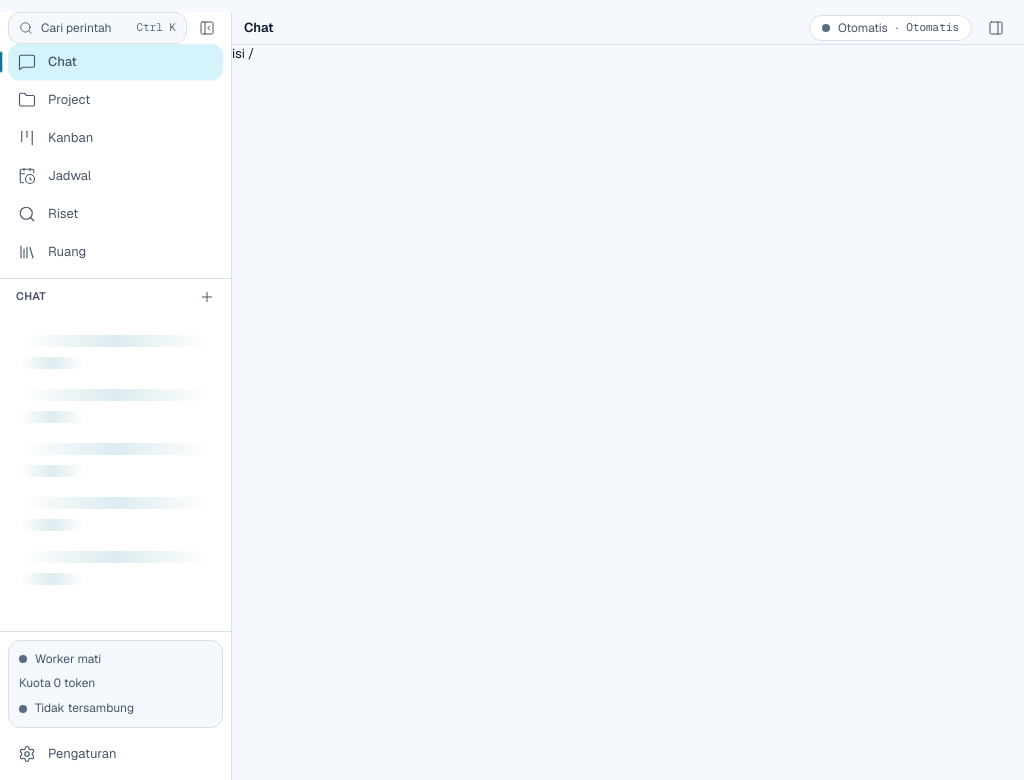
Test case: Shell › Ctrl+B menciutkan sidebar jadi ikon dan membukanya lagi; tombol di header membukanya
The width and height of the screenshot is (1024, 780).
Check: the navigation bar named "Navigasi utama" is shown, box 0,44 -> 231,278
Check: the button named "Ciutkan sidebar" is shown, box 191,12 -> 223,44
Press b
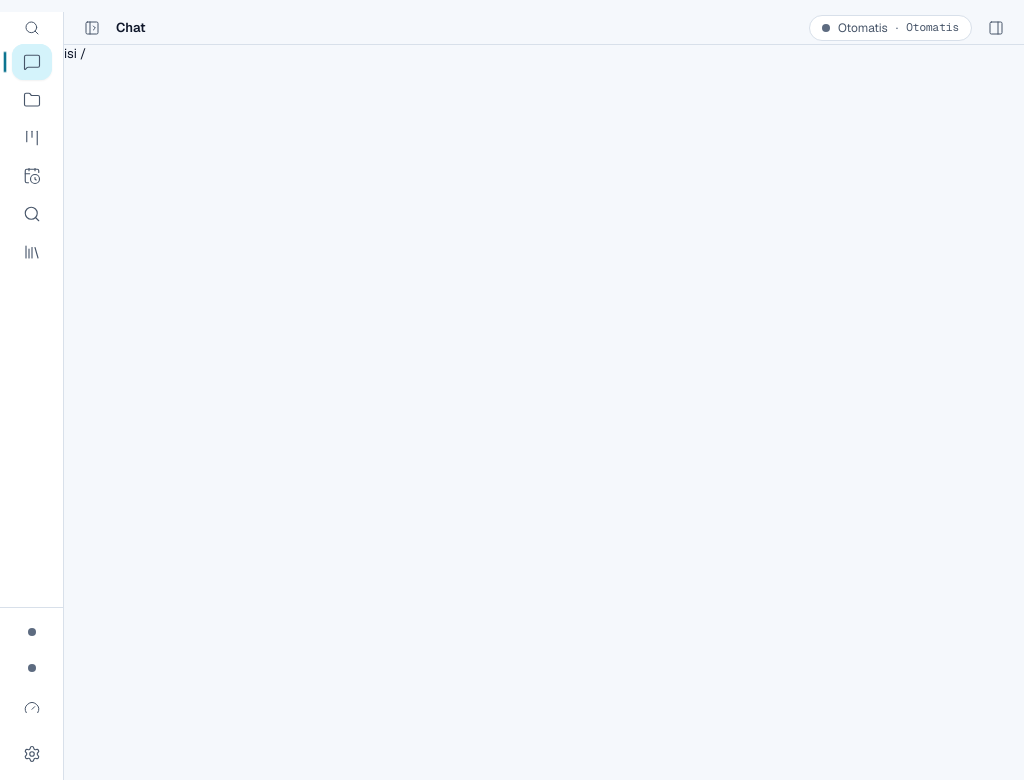
Check: the navigation bar named "Navigasi utama" is shown, box 0,44 -> 63,278
Check: the button "Cari perintah" is gone
Click the button named "Buka sidebar". click: (92, 28)
box: 76,12 -> 108,44
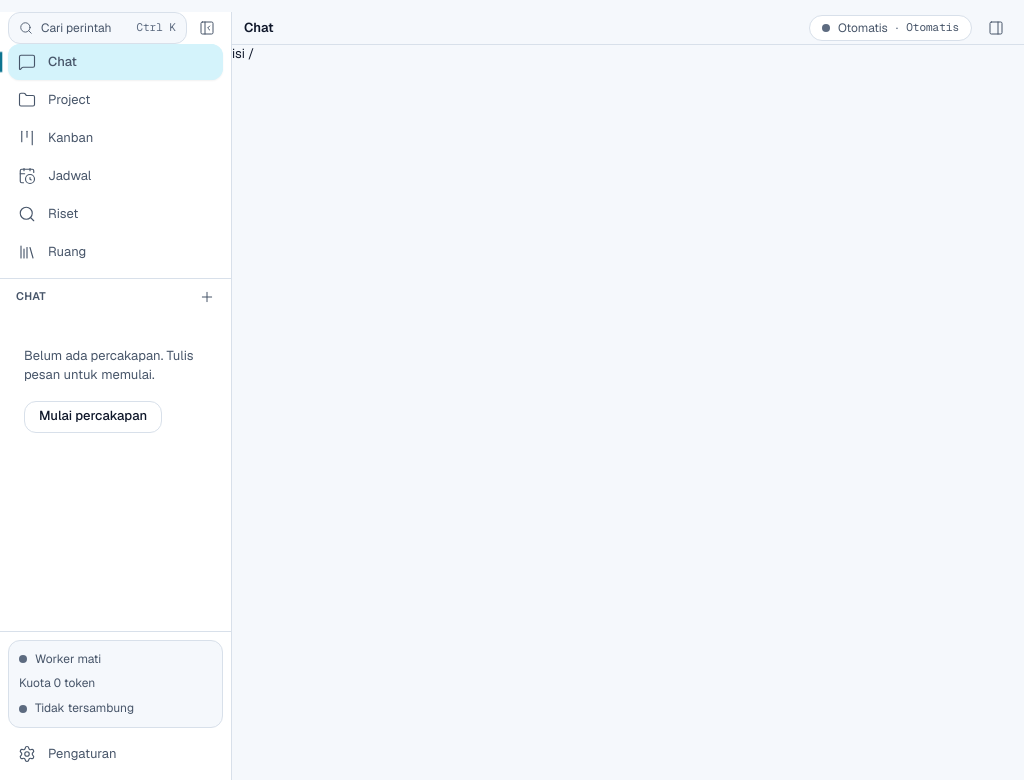
Check: the text "Cari perintah" is shown, box 41,20 -> 112,36
